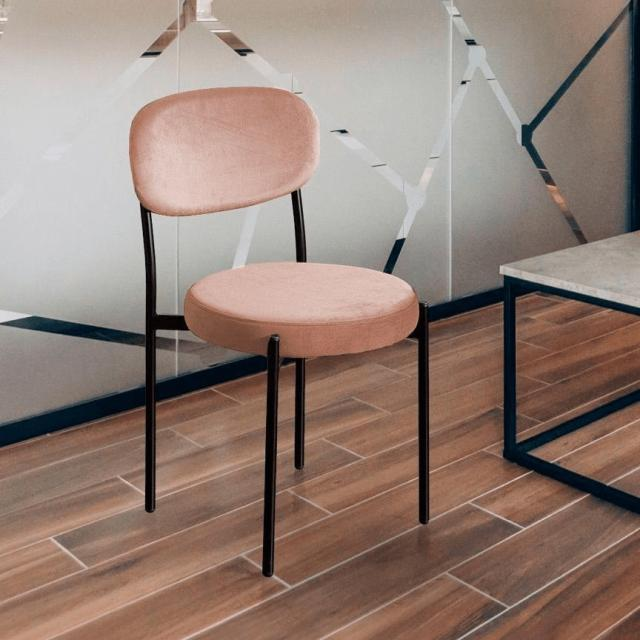chair: (127, 81, 440, 578), (130, 88, 426, 354)
